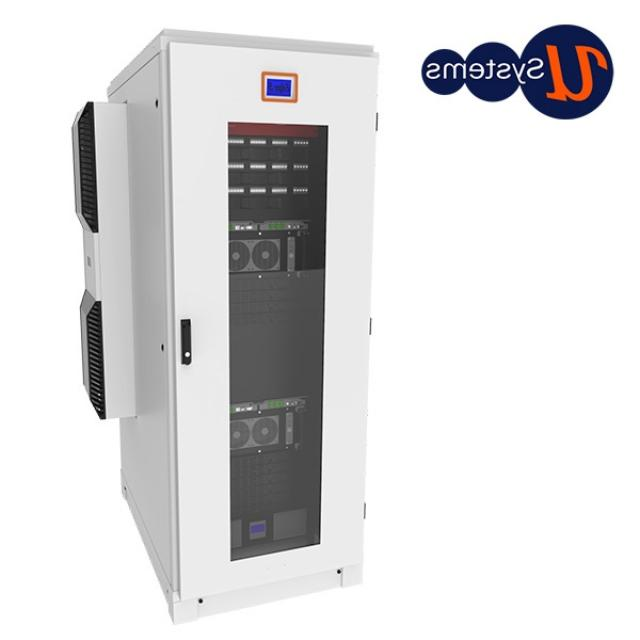Server: (59, 22, 382, 632)
